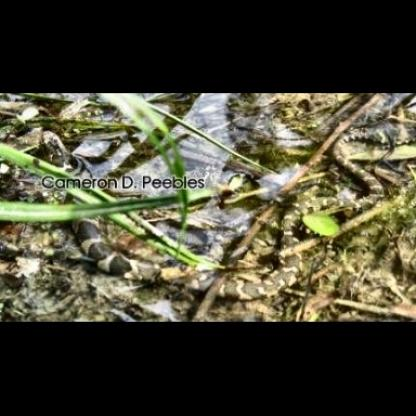Snake: (6, 130, 398, 300)
